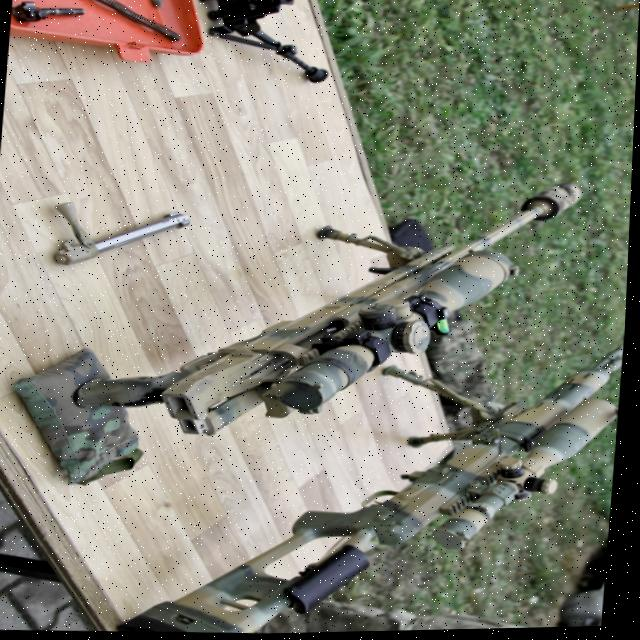firearm: (121, 293, 629, 638), (70, 168, 588, 453)
